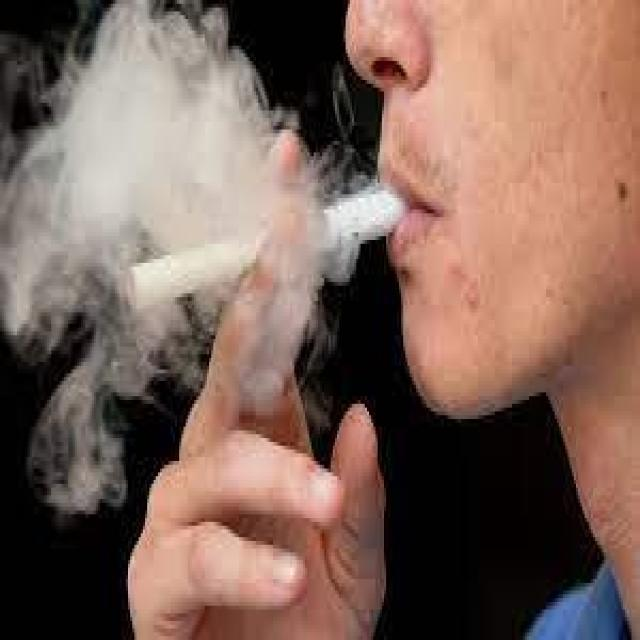cigarette: (130, 240, 258, 309), (324, 183, 410, 243)
